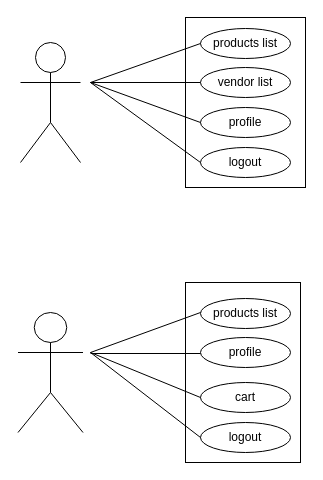
This 323x480 diagram has some shape labels left out. Each missing label, with the box of its shape:
Admin: (20, 42, 80, 162)
user: (17, 312, 83, 432)
